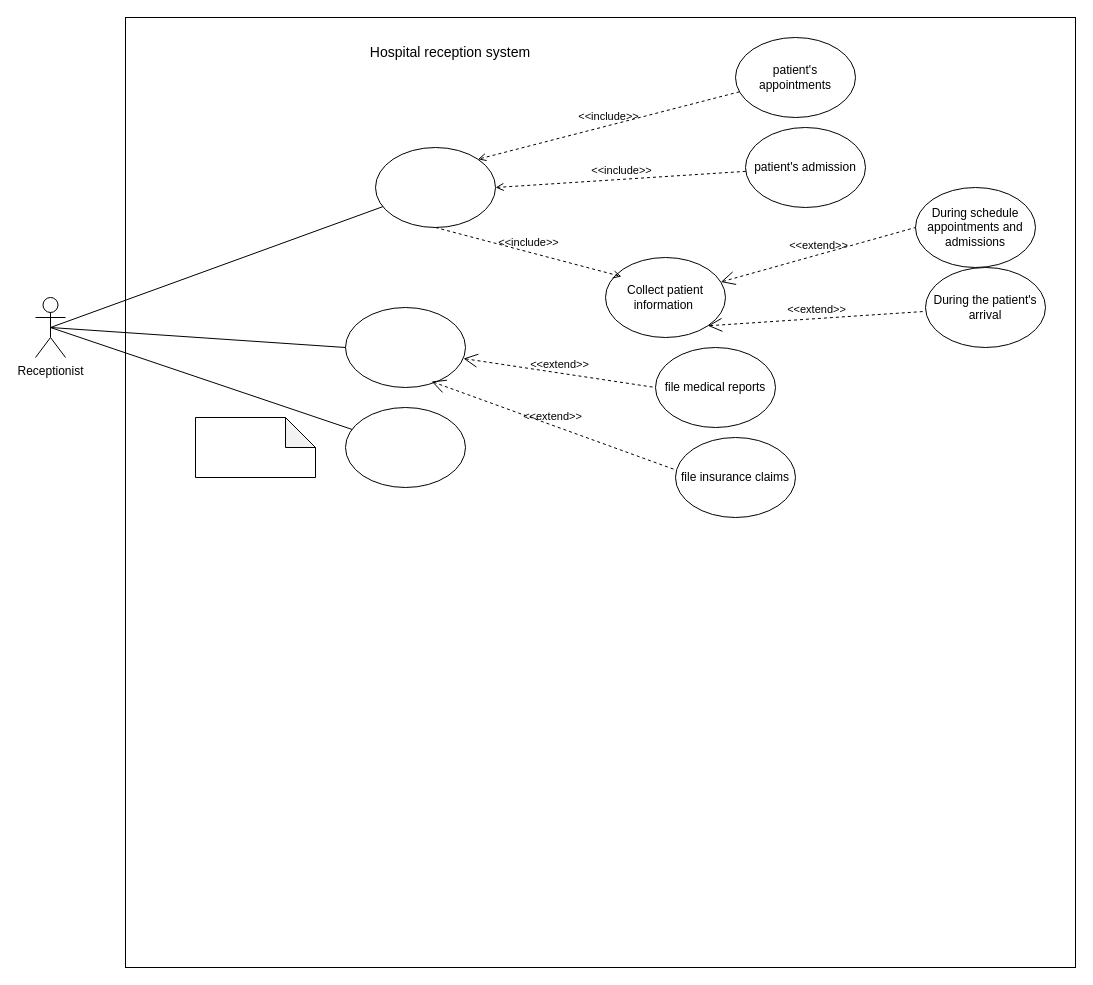
Image size: 1093x985. Some labels were removed from this diagram. The shapes that lost their labels are listed below. From the top down, each one's centre as x and y in pixels, then its label:
At point 435,187: "Schedule".
At point 405,347: "Complete patient's registration before admission".
At point 255,447: "Patient is inpatient".
At point 405,447: "Assign a bed in a ward for the patient".
